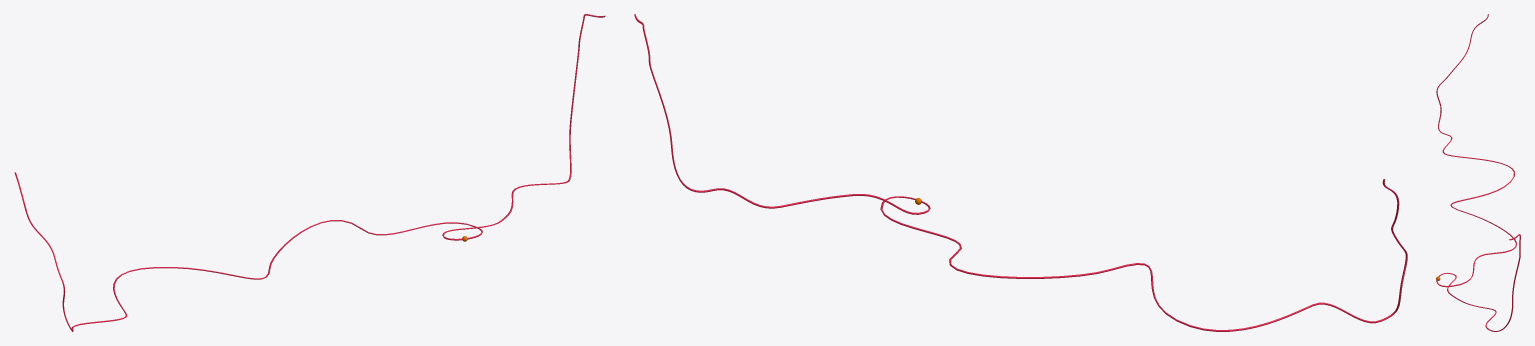
Rendered from fuse.fbx.
3 renders of one model, left to right at view 1: azimuth 30°, elevation 25°; view 2: azimuth 150°, elevation 25°; view 3: azimuth 270°, elevation 25°, orthographic. The views are drawn at different scales.
Parts seen in each view (by area): view 1: BezierCurve; view 2: BezierCurve; view 3: BezierCurve.
Part boxes in pixels (x1,y1,x2,y2): BezierCurve: (14,14,605,331); BezierCurve: (634,14,1407,331); BezierCurve: (1436,14,1520,331).
Bounding box in the file's own units: 4.91 × 1.14 × 0.7807.
